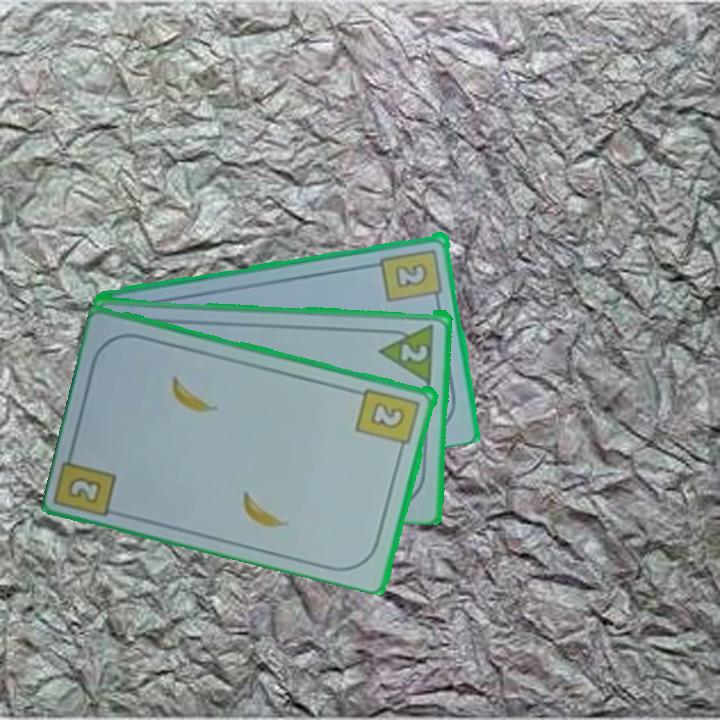2b: (353, 384, 423, 456), (378, 245, 446, 307), (64, 473, 105, 507)
2p: (397, 340, 431, 364)
